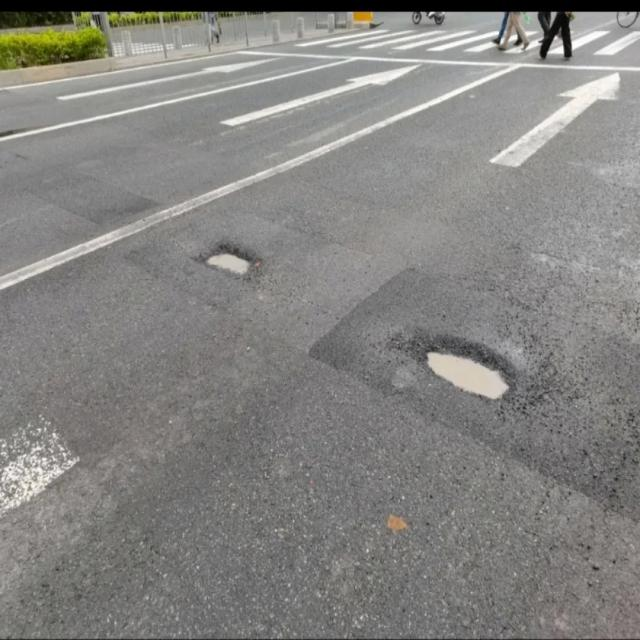Pothole: (409, 336, 515, 406), (200, 239, 256, 284)
